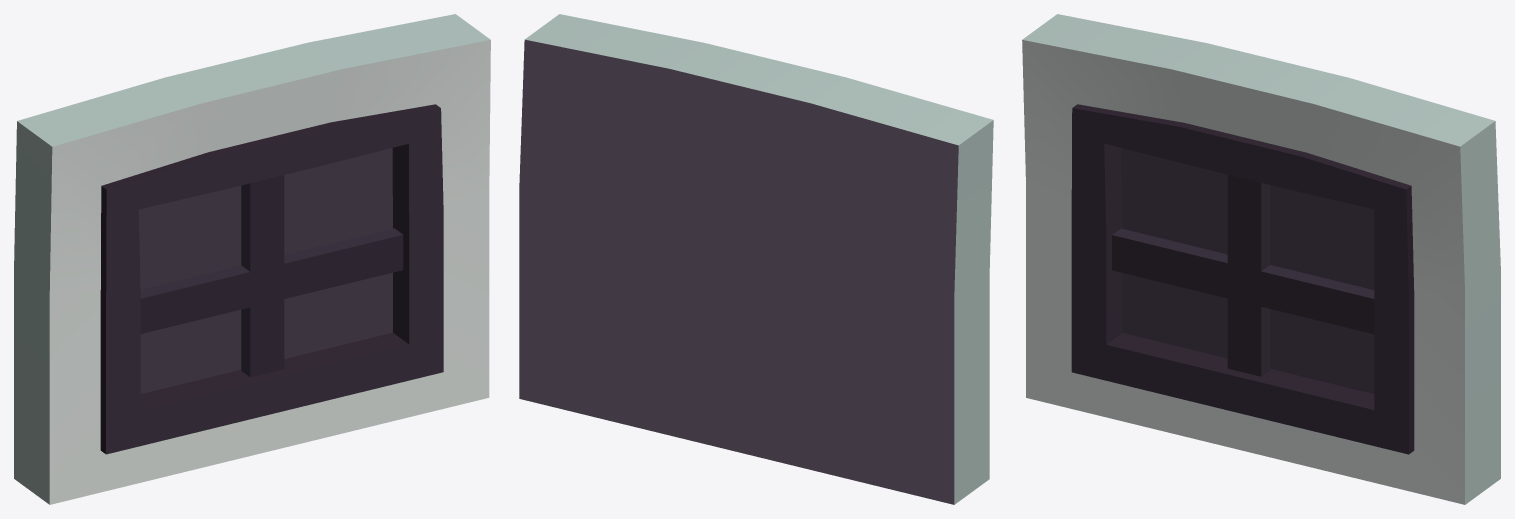
The model's file is Window02_White_Black.glb.
The picture shows the model from 3 angles, left to right: view 1: azimuth 30°, elevation 25°; view 2: azimuth 150°, elevation 25°; view 3: azimuth 330°, elevation 25°; orthographic projection.
Parts seen in each view (by area): view 1: Window02_White_Black; view 2: Window02_White_Black; view 3: Window02_White_Black.
Boxes of the visible parts, x1,y1,x2,y2 form: Window02_White_Black: (14,14,490,504); Window02_White_Black: (519,14,993,504); Window02_White_Black: (1022,14,1500,504).
Bounding box in the file's own units: 0.9012 × 0.7186 × 0.1456.
Materials: 1 (1 with a texture image).
